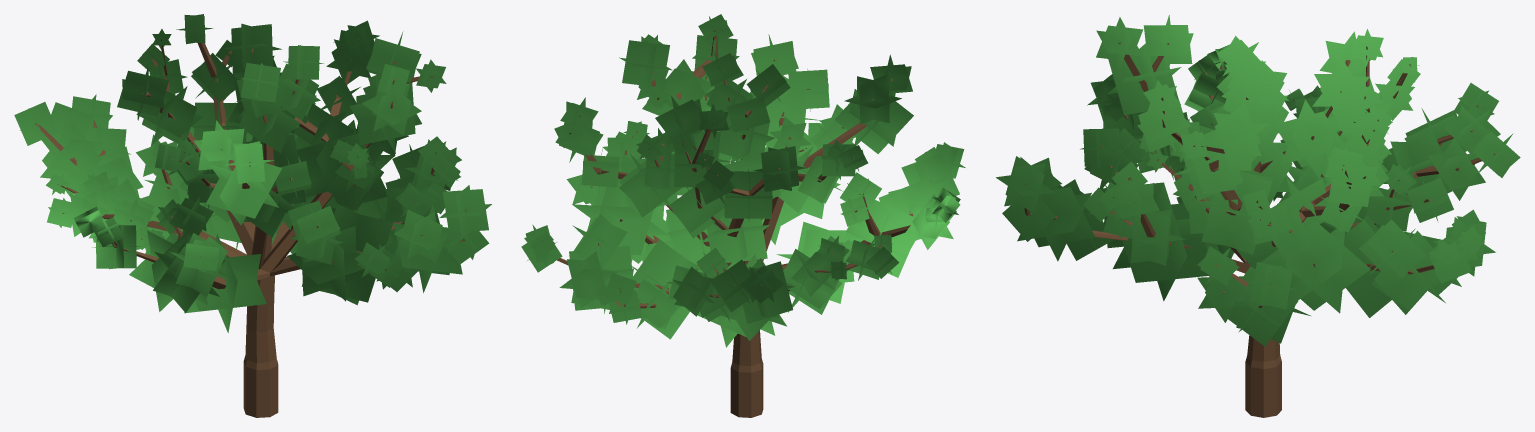
The model's file is TestTree.fbx.
3 renders of one model, left to right at view 1: azimuth 30°, elevation 25°; view 2: azimuth 150°, elevation 25°; view 3: azimuth 270°, elevation 25°, orthographic. The views are drawn at different scales.
Visible parts, largest first — view 1: OakTreeWithHole, OakLeaves.043, OakLeaves.096, OakLeaves.080, OakLeaves.049, OakLeaves.079, OakLeaves.036, OakLeaves.057, OakLeaves.077, OakLeaves.017, OakLeaves.011, OakLeaves.056 (+66 smaller); view 2: OakTreeWithHole, OakLeaves.125, OakLeaves.115, OakLeaves.062, OakLeaves.018, OakLeaves.049, OakLeaves.057, OakLeaves.087, OakLeaves.011, OakLeaves.119, OakLeaves.050, OakLeaves.061 (+65 smaller); view 3: OakTreeWithHole, OakLeaves.125, OakLeaves.079, OakLeaves.016, OakLeaves.078, OakLeaves.096, OakLeaves.049, OakLeaves.117, OakLeaves.116, OakLeaves.087, OakLeaves.115, OakLeaves.017 (+58 smaller).
Boxes of the visible parts, left/top/right/bottom form: OakTreeWithHole: left=35, top=28, right=466, bottom=417; OakLeaves.043: left=184, top=233, right=266, bottom=332; OakLeaves.096: left=297, top=124, right=386, bottom=210; OakLeaves.080: left=287, top=226, right=363, bottom=301; OakLeaves.049: left=206, top=162, right=281, bottom=225; OakLeaves.079: left=292, top=204, right=393, bottom=305; OakLeaves.036: left=40, top=122, right=103, bottom=196; OakLeaves.057: left=136, top=86, right=202, bottom=145; OakLeaves.077: left=439, top=185, right=491, bottom=236; OakLeaves.017: left=222, top=23, right=281, bottom=73; OakLeaves.011: left=234, top=100, right=299, bottom=152; OakLeaves.056: left=117, top=66, right=168, bottom=120; OakTreeWithHole: left=557, top=29, right=946, bottom=417; OakLeaves.125: left=572, top=179, right=668, bottom=261; OakLeaves.115: left=631, top=239, right=703, bottom=339; OakLeaves.062: left=701, top=215, right=770, bottom=264; OakLeaves.018: left=842, top=200, right=916, bottom=277; OakLeaves.049: left=834, top=89, right=913, bottom=153; OakLeaves.057: left=724, top=169, right=773, bottom=221; OakLeaves.087: left=619, top=39, right=672, bottom=88; OakLeaves.011: left=718, top=112, right=774, bottom=165; OakLeaves.119: left=559, top=251, right=617, bottom=308; OakLeaves.050: left=844, top=75, right=901, bottom=124; OakLeaves.061: left=669, top=187, right=724, bottom=238; OakTreeWithHole: left=1024, top=42, right=1494, bottom=417; OakLeaves.125: left=1260, top=221, right=1370, bottom=313; OakLeaves.079: left=1113, top=184, right=1209, bottom=301; OakLeaves.016: left=1274, top=99, right=1344, bottom=179; OakLeaves.078: left=1017, top=172, right=1095, bottom=261; OakLeaves.096: left=1191, top=171, right=1272, bottom=254; OakLeaves.049: left=1106, top=43, right=1181, bottom=115; OakLeaves.117: left=1359, top=219, right=1425, bottom=283; OakLeaves.116: left=1371, top=230, right=1445, bottom=314; OakLeaves.087: left=1206, top=102, right=1268, bottom=166; OakLeaves.115: left=1343, top=216, right=1391, bottom=317; OakLeaves.017: left=1312, top=59, right=1369, bottom=123.
Bounding box in the file's own units: 1363 × 1227 × 1567.
